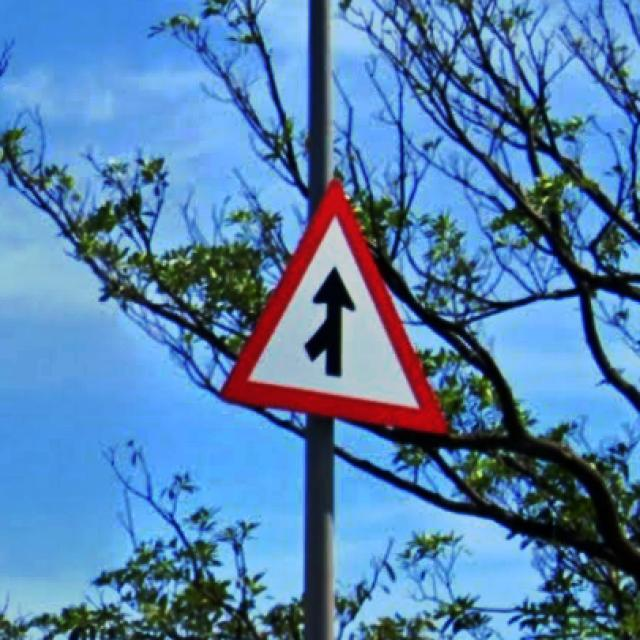leftmerge: (220, 179, 449, 438)
